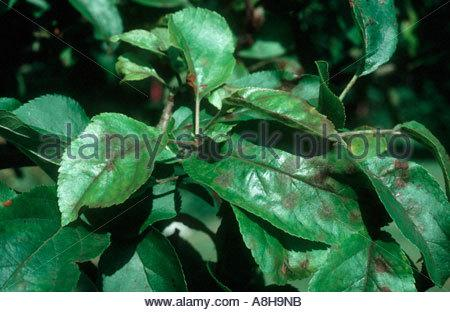Apple Scab Leaf: (188, 125, 369, 246), (360, 149, 450, 291), (63, 100, 162, 220), (232, 72, 353, 152)
